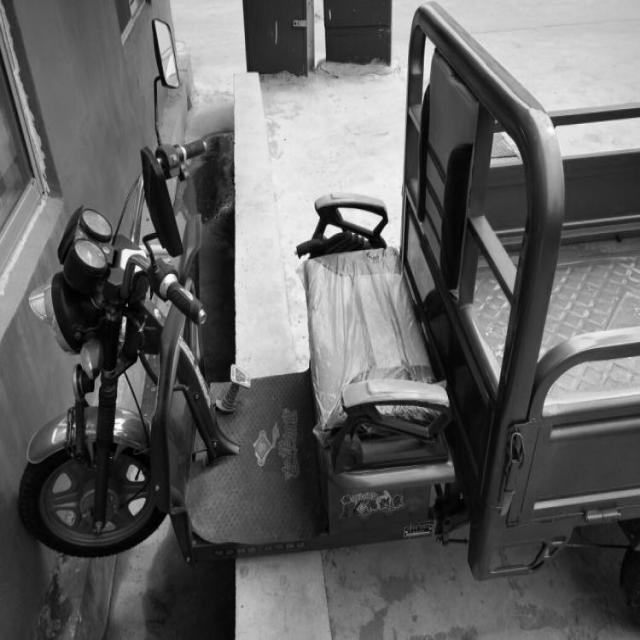tricycle: (16, 1, 639, 607)
